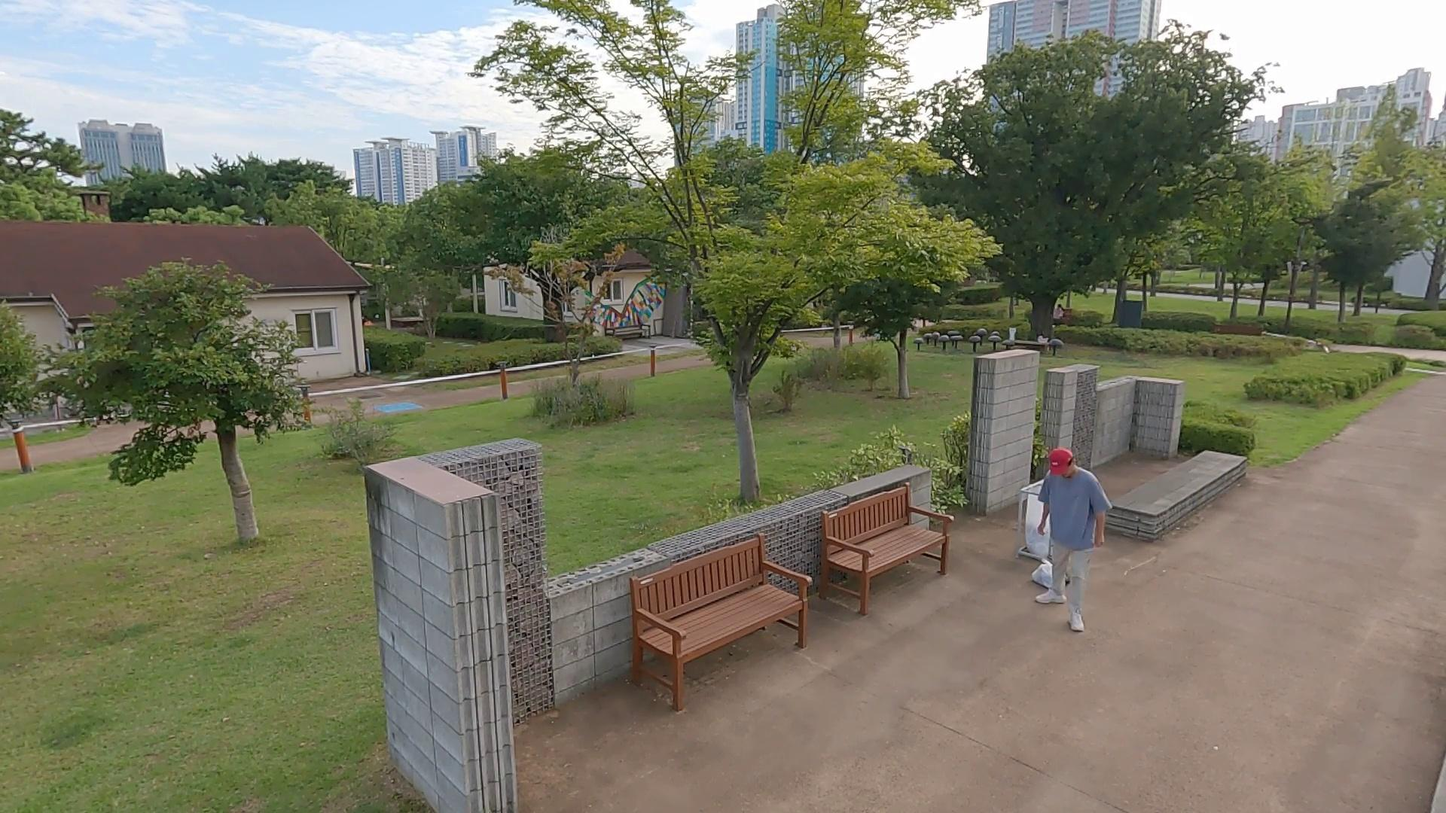person: (1026, 441, 1115, 640)
trash: (1026, 556, 1076, 591)
